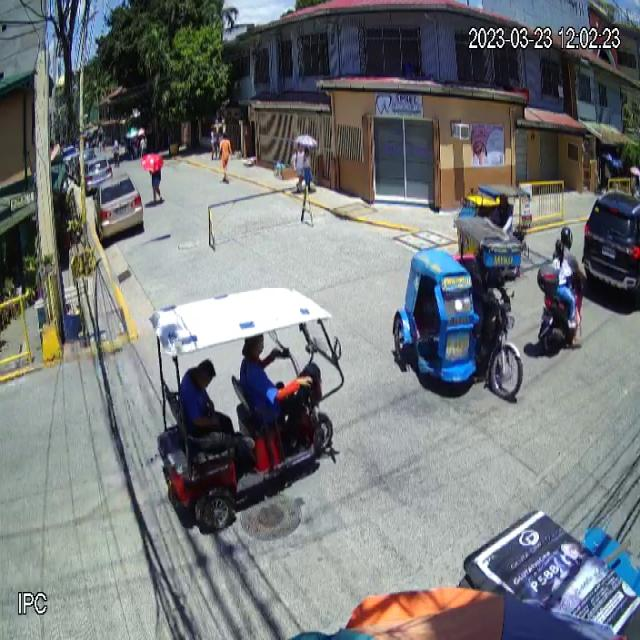Car: (92, 174, 144, 244)
Motorcycle: (536, 266, 590, 352)
Tricycle: (392, 214, 525, 402)
